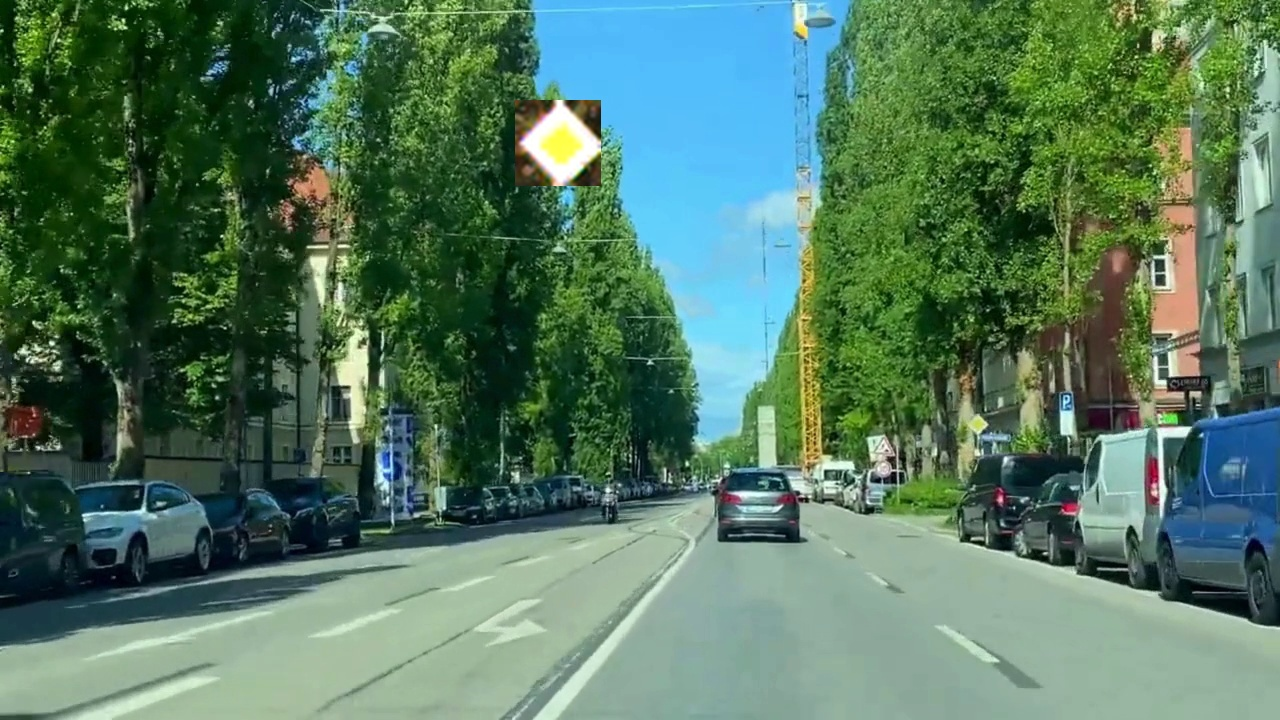Priority road: (515, 100, 601, 186)
